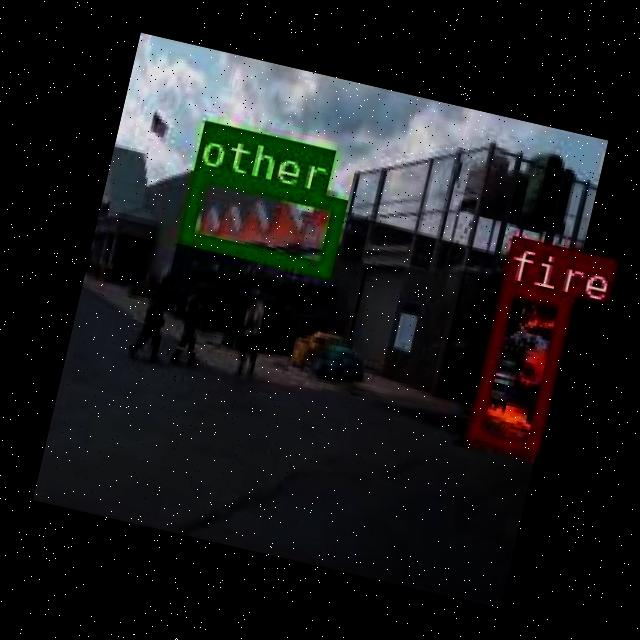fire: (464, 278, 569, 454)
